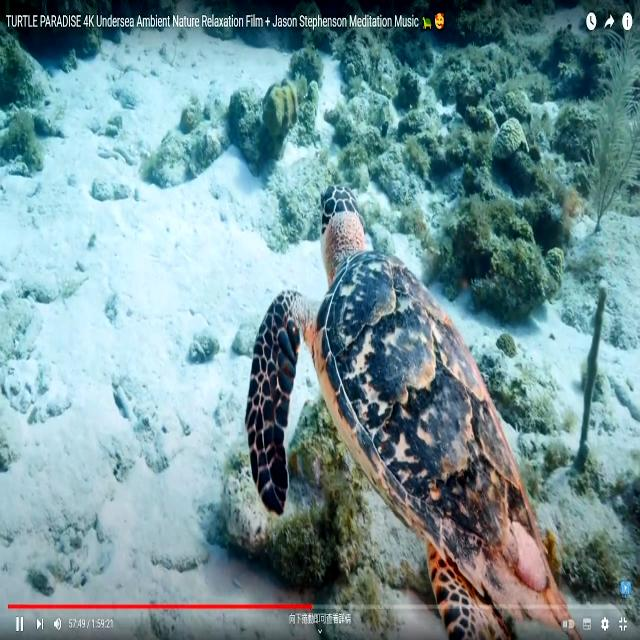Sea turtle: (251, 180, 574, 640)
